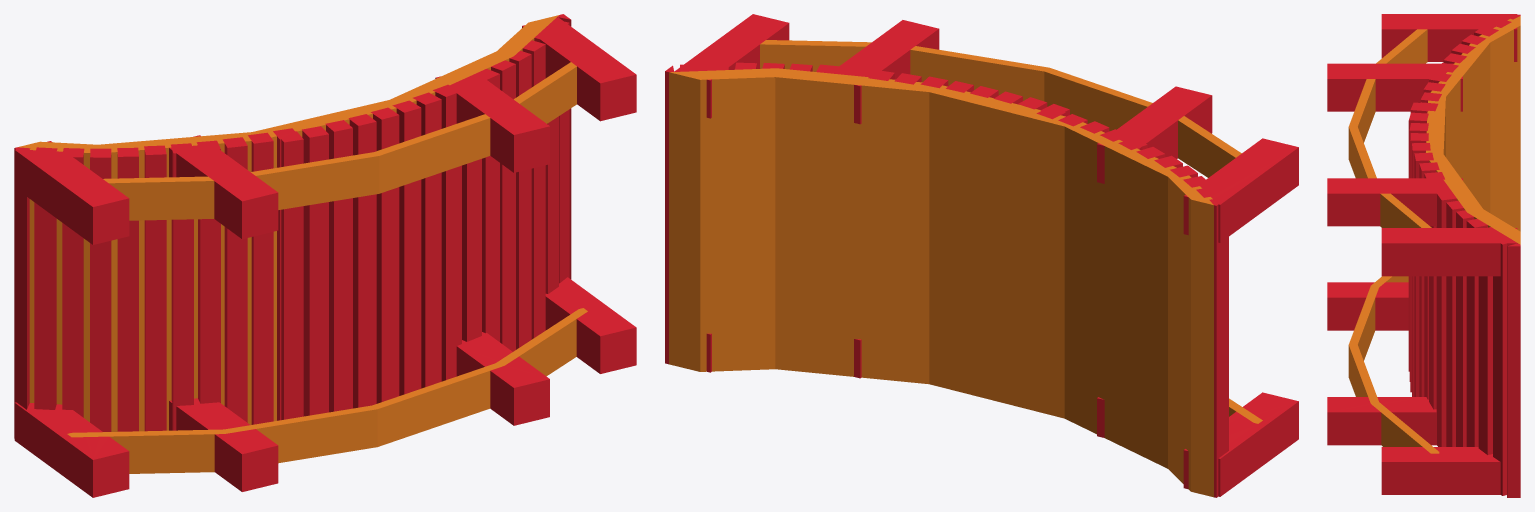
Rendered from tinker.obj.
3 renders of one model, left to right at view 1: azimuth 30°, elevation 25°; view 2: azimuth 150°, elevation 25°; view 3: azimuth 270°, elevation 25°, orthographic. The views are drawn at different scales.
Parts seen in each view (by area): view 1: group_0_15277357, group_0_16089887; view 2: group_0_16089887, group_0_15277357; view 3: group_0_15277357, group_0_16089887.
Part boxes in pixels (left/top/right/bottom): group_0_15277357: left=14, top=14, right=636, bottom=497; group_0_16089887: left=18, top=15, right=587, bottom=473; group_0_16089887: left=669, top=40, right=1262, bottom=497; group_0_15277357: left=665, top=14, right=1298, bottom=497; group_0_15277357: left=1327, top=14, right=1520, bottom=497; group_0_16089887: left=1348, top=16, right=1520, bottom=453.
Bounding box in the file's own units: 60.8 × 30.68 × 21.36.
